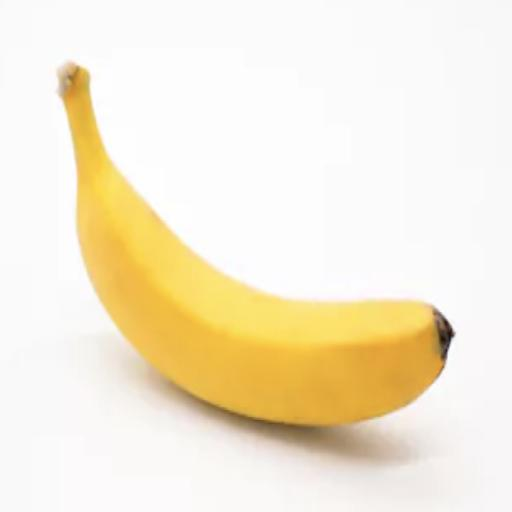banana: (59, 64, 453, 425)
